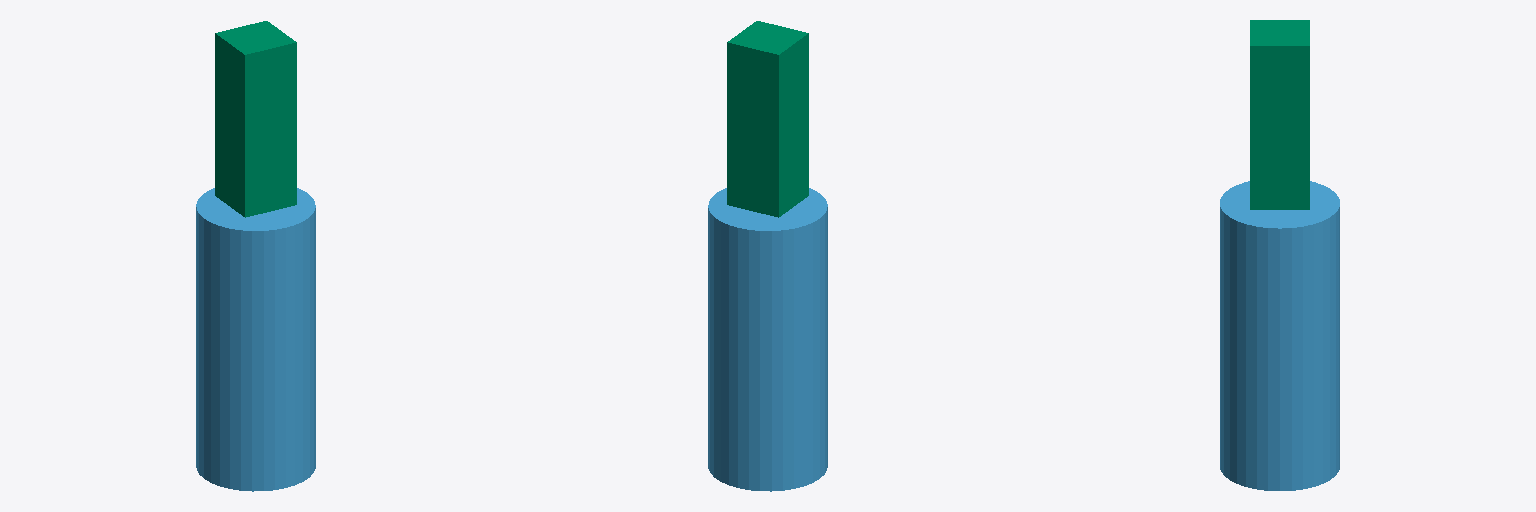
The robot description file, URDF, robot "simple_example":
<?xml version="1.0"?>
<robot name="simple_example">
  <link name="world" />
 
  <joint name="world_to_base_joint" type="fixed">
    <parent link="world"/>
    <child link="base_link"/>
    <axis xyz="0 0 1"/>
    <origin xyz="0.0 0.0 0.0" rpy="0.0 0.0 0.0"/> 
  </joint>
  
  <link name="base_link">
    <inertial>
        <mass value="10" />
        <inertia ixx="0.4" ixy="0.0" ixz="0.0" iyy="0.4" iyz="0.0" izz="0.2"/>
    </inertial>
    <collision>
      <geometry>
        <cylinder radius="0.05" length="0.24" />
      </geometry>
        </collision>
    <visual>
      <geometry>
        <cylinder radius="0.05" length="0.24" />
      </geometry>
    </visual>
  </link>

  <link name="second_link">
    <inertial>
        <mass value="0.18" />
        <inertia ixx="0.0002835" ixy="0.0" ixz="0.0" iyy="0.0002835" iyz="0.0" izz="0.000324" />
    </inertial>
    <origin rpy="0.0 0.0 0.0" xyz="0.0 0.0 0.0" />
    <collision>
      <geometry>
        <box size="0.05 0.05 0.15" />
      </geometry>
    </collision>
    <visual>
      <geometry>
        <box size="0.05 0.05 0.15" />
      </geometry>
    </visual>
  </link>

  <joint name="base_to_second_joint" type="continuous">
    <parent link="base_link"/>
    <child link="second_link"/>
    <axis xyz="1 0 0"/>
    <origin xyz="0.0 0.0 0.2" rpy="0.0 0.0 0.0"/> 
  </joint>

  <!--                GAZEBO RELATED PART                             -->

  <!-- ROS Control plugin for Gazebo -->
  <gazebo>
    <plugin name="gazebo_ros_control" filename="libgazebo_ros_control.so">
      <robotNamespace>/nodes/simple_model</robotNamespace>
    </plugin>
  </gazebo>

  <!-- transmission -->
  <transmission name="base_to_second_trans">
    <type>transmission_interface/SimpleTransmission</type>
    <actuator name="motor1">
      <mechanicalReduction>1</mechanicalReduction>
    </actuator>
    <joint name="base_to_second_joint">
      <hardwareInterface>hardware_interface/EffortJointInterface</hardwareInterface>
    </joint>
  </transmission>
</robot>

--- Facts derived from the render (not from the file) ---
The picture shows the robot from 3 angles, left to right: view 1: azimuth 30°, elevation 25°; view 2: azimuth 150°, elevation 25°; view 3: azimuth 270°, elevation 25°; orthographic projection.
Robot: simple_example — 3 links, 2 joints (1 continuous, 1 fixed); root link world; default pose: every joint at zero.
Links seen in each view (by area): view 1: base_link, second_link; view 2: base_link, second_link; view 3: base_link, second_link.
Link boxes in pixels (box(x1,y1,x2,y2)): base_link: box(196, 188, 315, 491); second_link: box(215, 21, 296, 217); base_link: box(708, 188, 827, 491); second_link: box(727, 21, 808, 217); base_link: box(1220, 181, 1339, 490); second_link: box(1250, 20, 1309, 209).
Bounding box of the posed robot: 0.1 × 0.1 × 0.395 m (x, y, z).
Geometry: primitives only (box / cylinder / sphere), no mesh files.